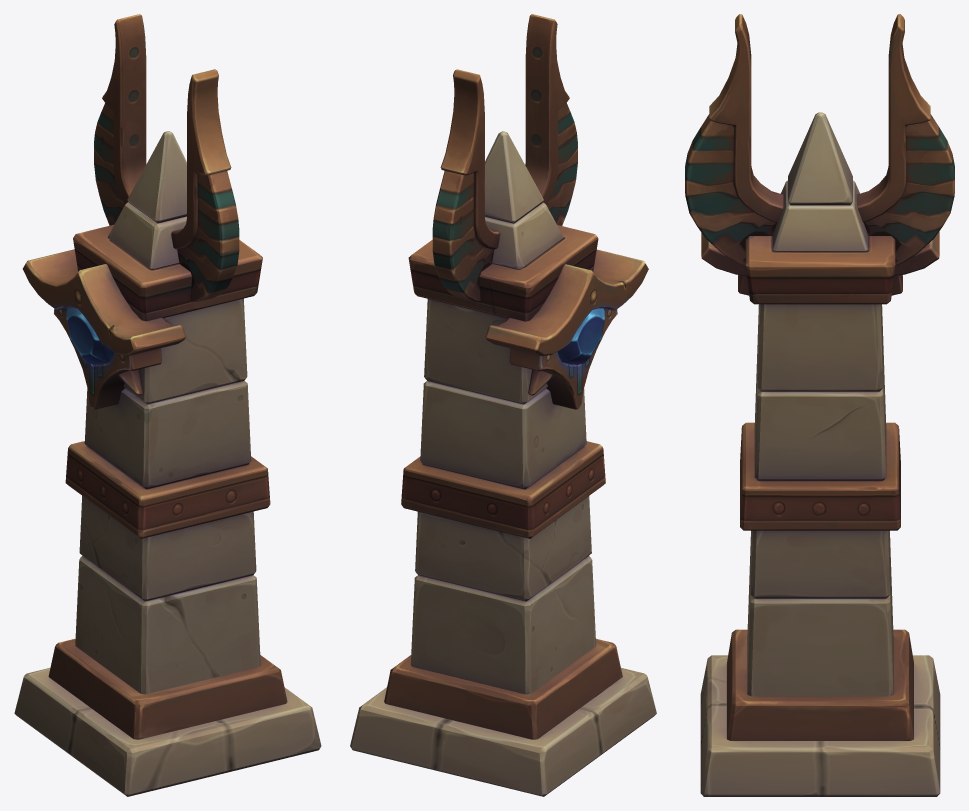
The model's file is pillar_01.fbx.
The picture shows the model from 3 angles, left to right: view 1: azimuth 30°, elevation 25°; view 2: azimuth 150°, elevation 25°; view 3: azimuth 270°, elevation 25°; orthographic projection. The views are drawn at different scales.
Parts seen in each view (by area): view 1: wh_pillar_01; view 2: wh_pillar_01; view 3: wh_pillar_01.
Part boxes in pixels (<box>): wh_pillar_01: <box>14,14,321,796</box>; wh_pillar_01: <box>350,14,656,796</box>; wh_pillar_01: <box>685,14,954,796</box>.
Size of the model in its own units: 2.05 by 6.86 by 2.31.
